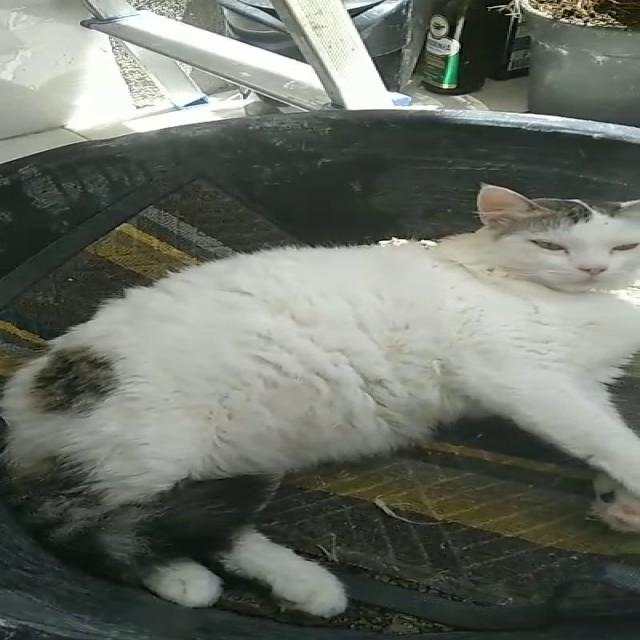Simba: (3, 175, 638, 639)
